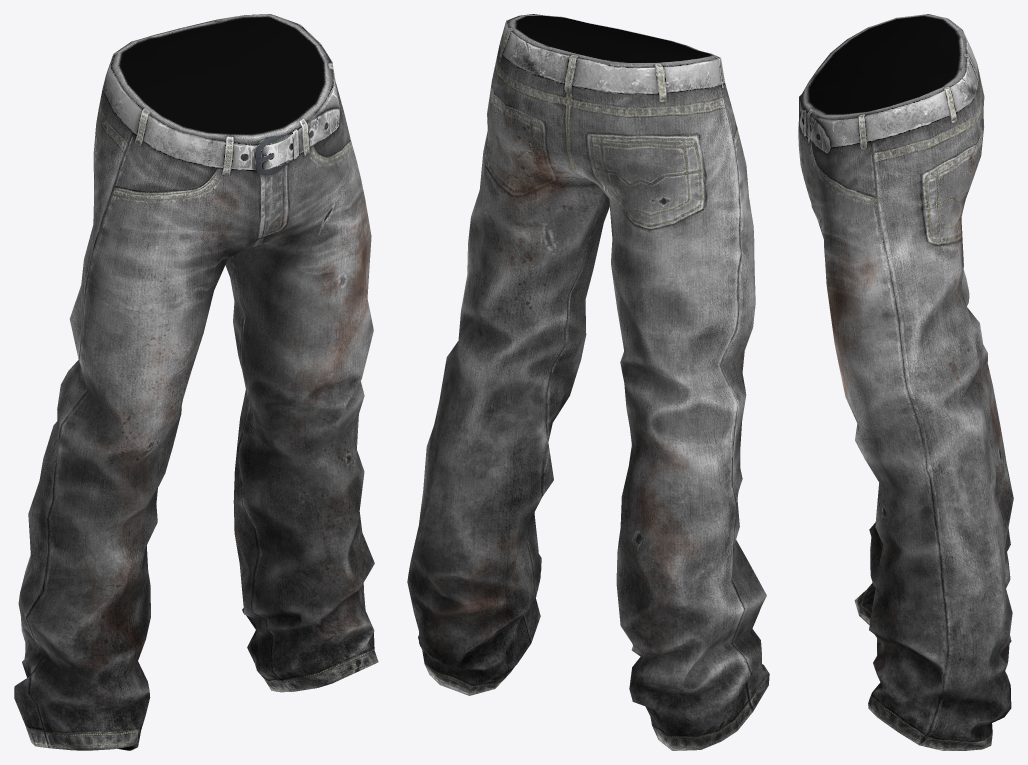
The model's file is SurvivorMale_Legs_Pants_Baggy_LOD0.glb.
3 renders of one model, left to right at view 1: azimuth 30°, elevation 25°; view 2: azimuth 150°, elevation 25°; view 3: azimuth 270°, elevation 25°, orthographic. The views are drawn at different scales.
Visible parts, largest first — view 1: Hoodie; view 2: Hoodie; view 3: Hoodie.
Boxes of the visible parts, <box> form: Hoodie: <box>14,14,378,750</box>; Hoodie: <box>407,14,769,750</box>; Hoodie: <box>798,14,1013,750</box>.
Size of the model in its own units: 0.5418 by 1.05 by 0.3192.
1 material, 1 textured.
